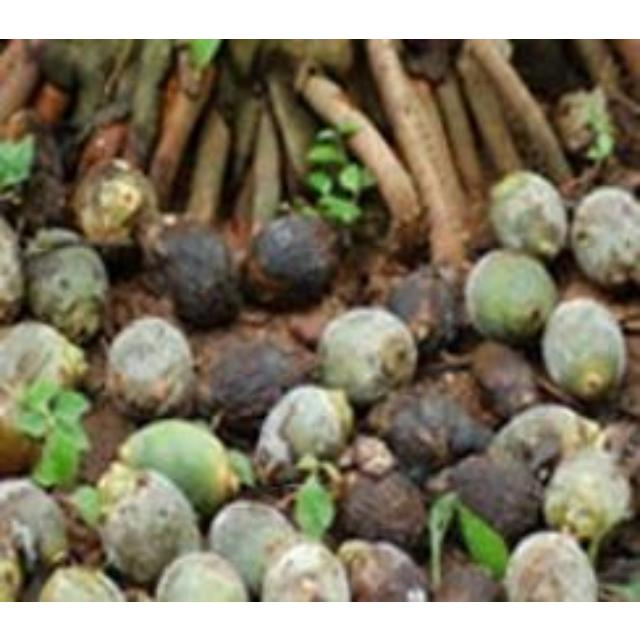damaged: (118, 418, 240, 516), (100, 471, 202, 584), (205, 334, 315, 436), (376, 384, 488, 478), (148, 220, 245, 328), (544, 442, 632, 558), (438, 448, 544, 544), (104, 315, 198, 421), (243, 211, 341, 311), (253, 385, 353, 483), (318, 308, 418, 404), (23, 233, 111, 341), (71, 158, 163, 255), (462, 250, 556, 344), (542, 298, 628, 400), (208, 499, 298, 595), (335, 469, 429, 553), (570, 185, 640, 288), (491, 403, 595, 471), (488, 171, 568, 259), (1, 320, 88, 400), (0, 477, 72, 573), (503, 530, 599, 602), (384, 265, 460, 355), (466, 339, 542, 419), (336, 538, 430, 602), (260, 539, 354, 601), (554, 82, 616, 162), (18, 166, 72, 236), (96, 462, 144, 512)
